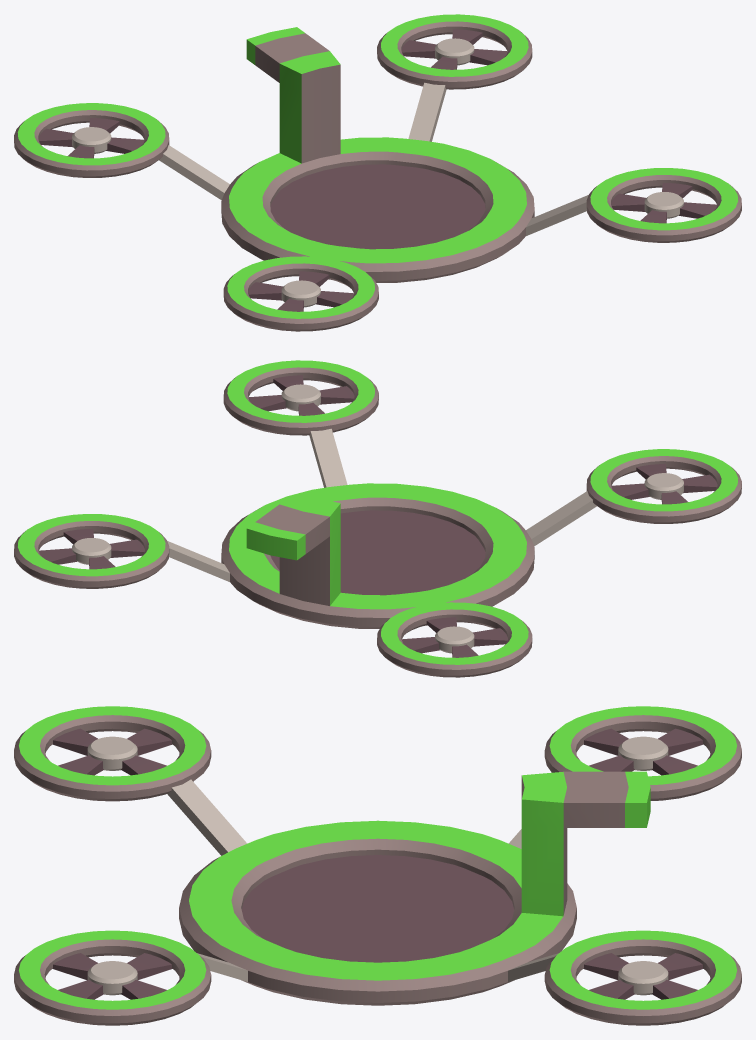
Rendered from Green_Bot.fbx.
The picture shows the model from 3 angles, top to bottom: view 1: azimuth 30°, elevation 25°; view 2: azimuth 150°, elevation 25°; view 3: azimuth 270°, elevation 25°; orthographic projection. The views are drawn at different scales.
Visible parts, largest first — view 1: Green_Bot, Fan.003, Fan, Fan.002, Fan.001; view 2: Green_Bot, Fan.002, Fan.001, Fan.003, Fan; view 3: Green_Bot, Fan.001, Fan.002, Fan.003, Fan.
Part boxes in pixels (x1,y1,x2,y2): Green_Bot: (14,14,741,331); Fan.003: (401,29,507,69); Fan: (38,118,144,158); Fan.002: (611,183,717,223); Fan.001: (248,271,354,311); Green_Bot: (14,360,741,677); Fan.002: (248,375,354,415); Fan.001: (611,464,717,504); Fan.003: (38,529,144,569); Fan: (401,617,507,657); Green_Bot: (14,706,741,1025); Fan.001: (52,728,172,775); Fan.002: (52,953,172,999); Fan.003: (583,953,703,999); Fan: (583,728,703,775).
Bounding box in the file's own units: 52.9 × 11.1 × 52.9.
